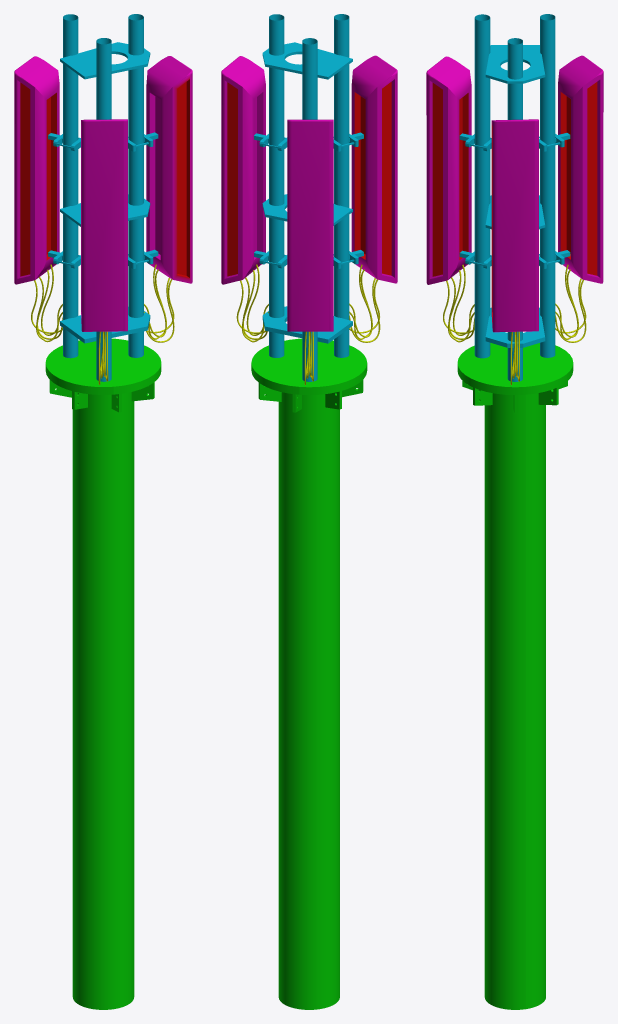
Rendered from 5Gtower_Joined.fbx.
3 views of the same model, side by side, from view 1: azimuth 30°, elevation 25°; view 2: azimuth 150°, elevation 25°; view 3: azimuth 270°, elevation 25° (orthographic).
Parts seen in each view (by area): view 1: 5g_joined; view 2: 5g_joined; view 3: 5g_joined.
Boxes of the visible parts, left/top/right/bottom form: 5g_joined: left=14, top=14, right=192, bottom=1009; 5g_joined: left=221, top=14, right=397, bottom=1009; 5g_joined: left=426, top=14, right=603, bottom=1009.
Bounding box in the file's own units: 13.35 × 91.22 × 15.06.
